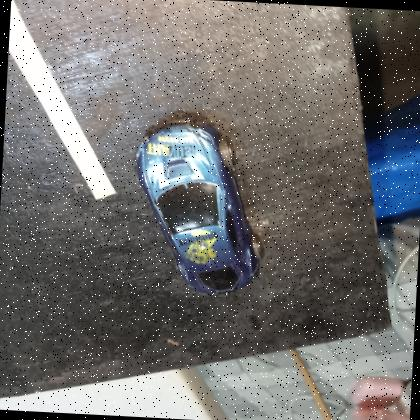Car: (126, 114, 270, 298)
